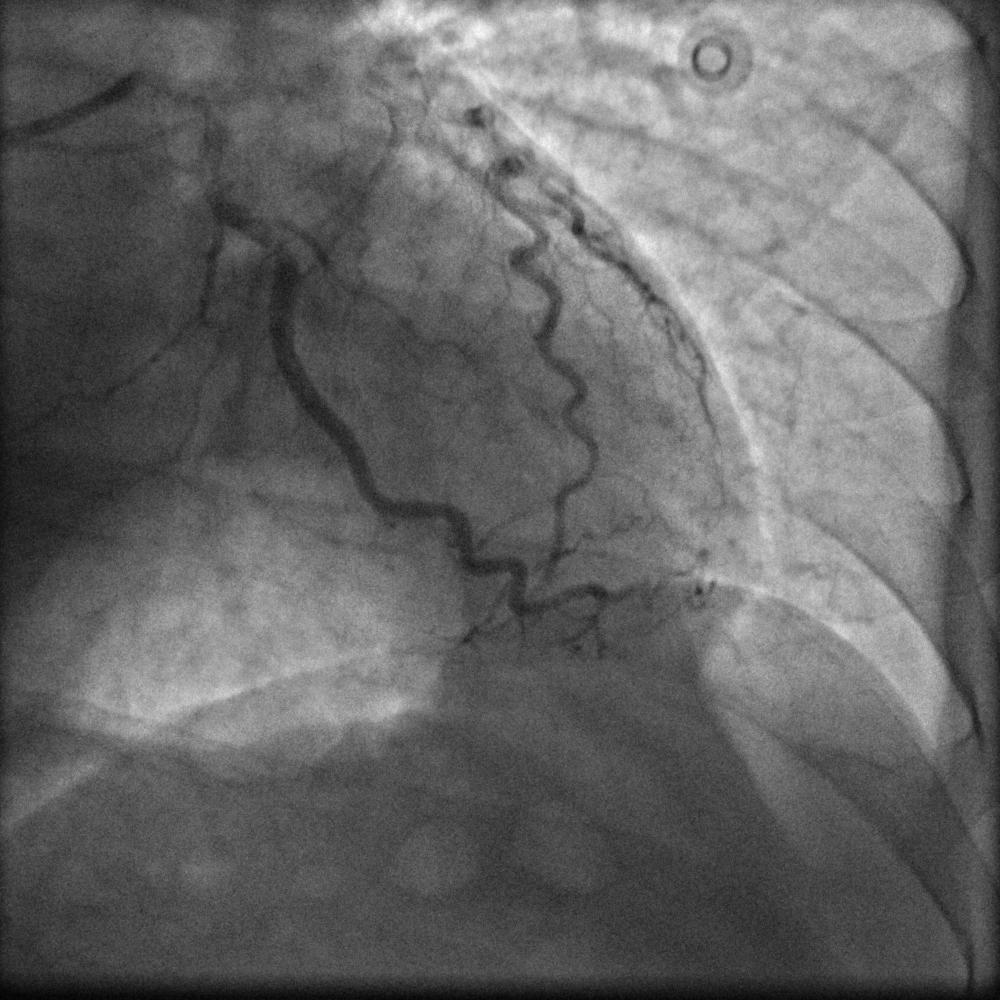Stenosis: (265, 225, 292, 270)
